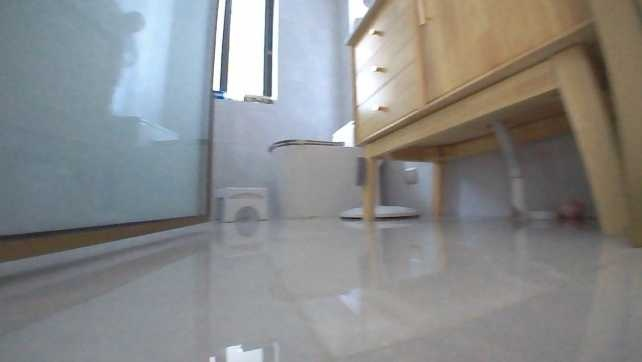chair_base: (343, 194, 420, 222)
toilet: (268, 118, 358, 215)
washstand: (342, 0, 640, 246)
